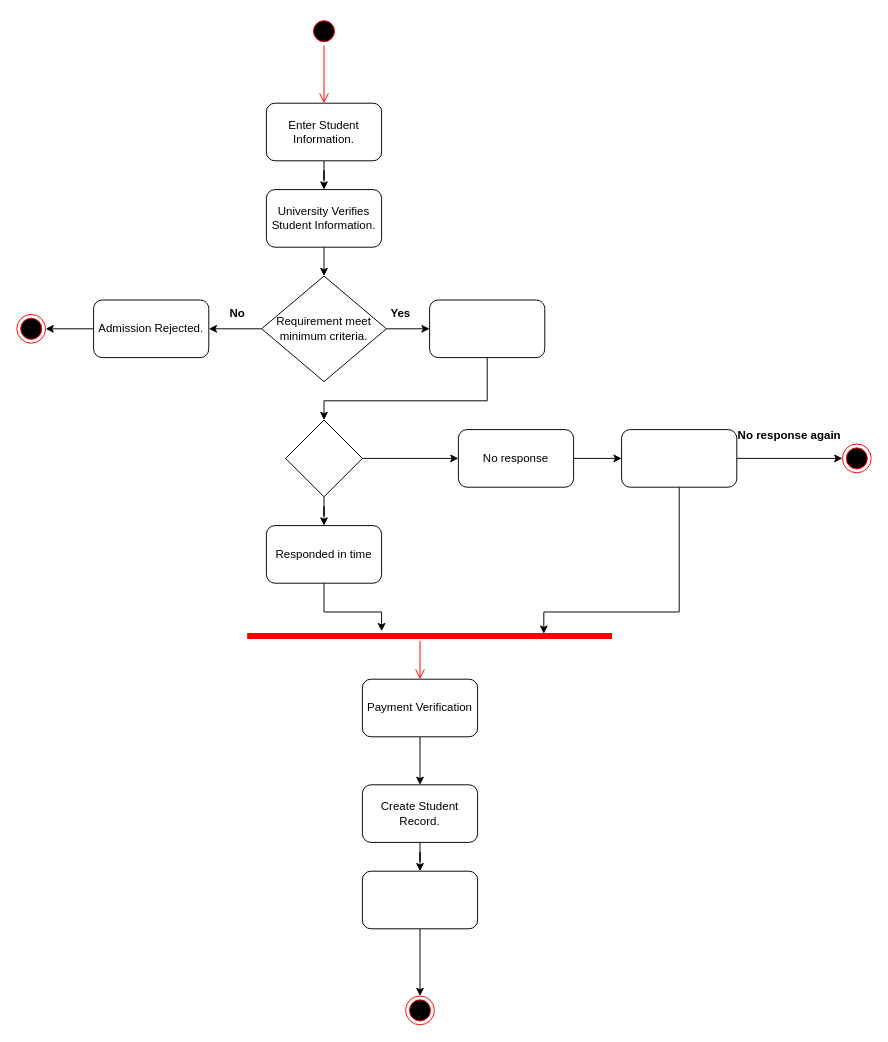
This 888x1042 diagram has some shape labels left out. Here are the shapes that lost their labels. From the top down, the box of each, then its label:
(429, 299, 545, 358): University sends Offer letter.
(285, 419, 362, 497): Response Time.
(621, 429, 737, 487): Second Verification mail
(361, 870, 478, 929): Enroll Student
